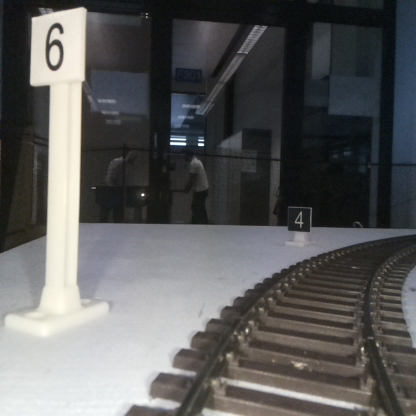black-stop-4: (288, 208, 310, 245)
white-info-6: (30, 8, 85, 332)
